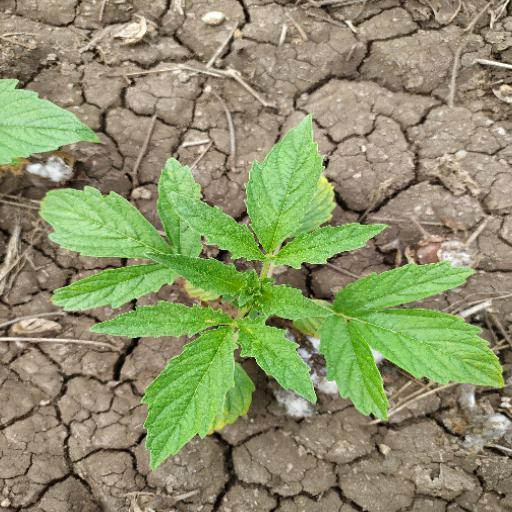crop: (37, 122, 512, 455)
